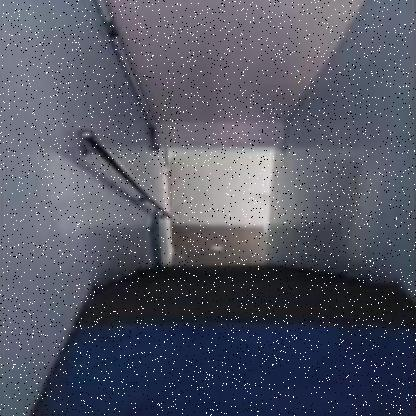stair_down: (151, 242, 345, 329)
